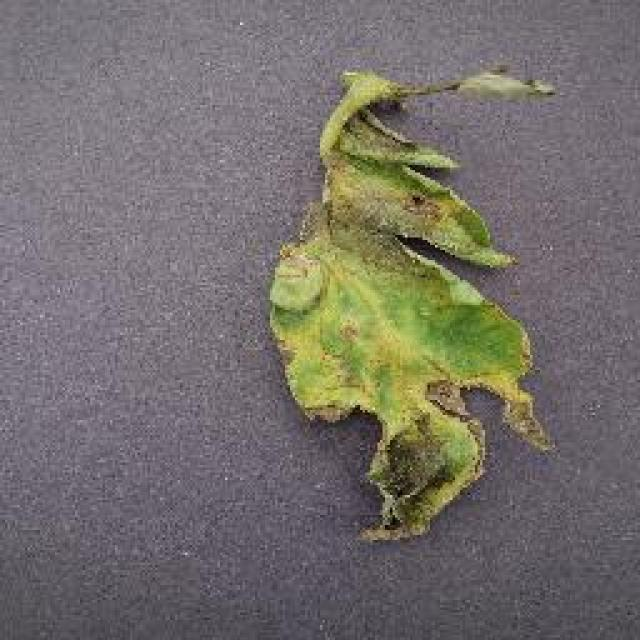Tomato Late Blight: (285, 45, 457, 578)
